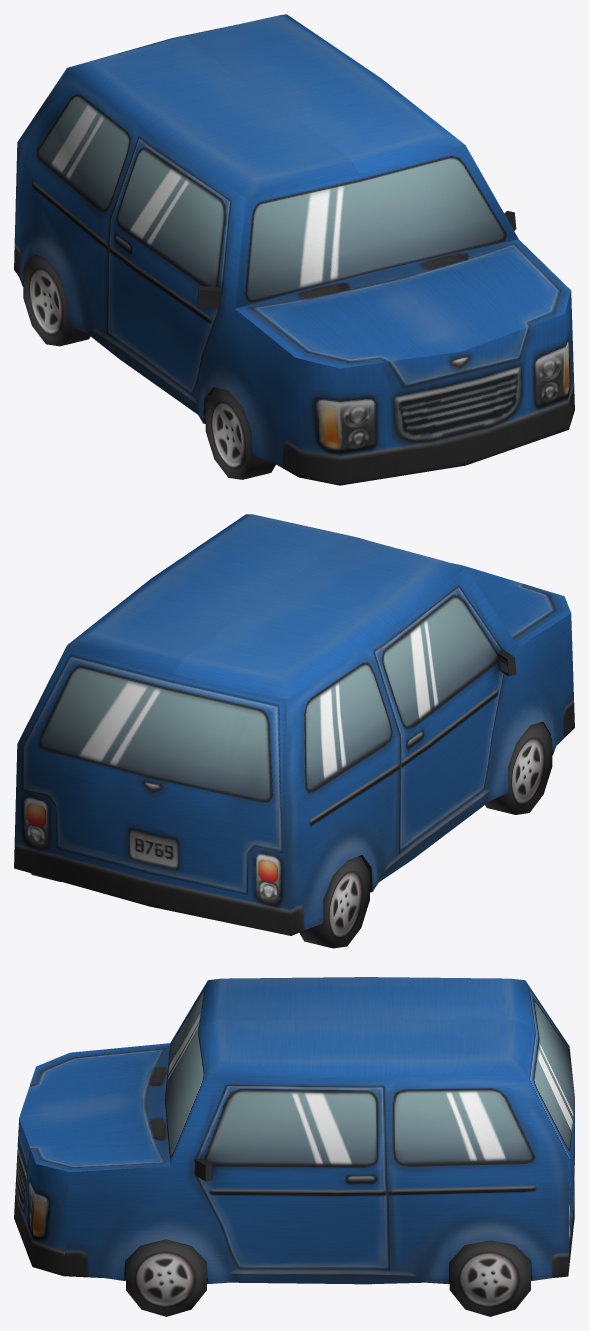
The model's file is Car_01.FBX.
The picture shows the model from 3 angles, top to bottom: view 1: azimuth 30°, elevation 25°; view 2: azimuth 150°, elevation 25°; view 3: azimuth 270°, elevation 25°; orthographic projection. The views are drawn at different scales.
Parts seen in each view (by area): view 1: car1, car01_wheel04, car01_wheel02; view 2: car1, car01_wheel02, car01_wheel04; view 3: car1, car01_wheel01, car01_wheel03.
Boxes of the visible parts, x1=… form: car1: x1=14, y1=14, x2=574, y2=485; car01_wheel04: x1=205, y1=388, x2=275, y2=479; car01_wheel02: x1=23, y1=254, x2=90, y2=346; car1: x1=14, y1=514, x2=574, y2=935; car01_wheel02: x1=299, y1=856, x2=369, y2=948; car01_wheel04: x1=485, y1=723, x2=552, y2=814; car1: x1=14, y1=977, x2=574, y2=1284; car01_wheel01: x1=449, y1=1240, x2=530, y2=1316; car01_wheel03: x1=126, y1=1239, x2=206, y2=1316.
Bounding box in the file's own units: 1927 × 3306 × 1509.
